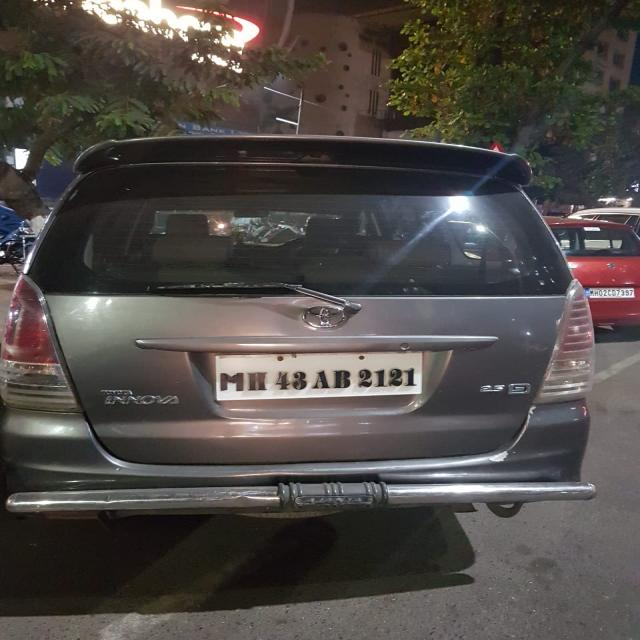Number-Plate: (219, 353, 423, 400)
